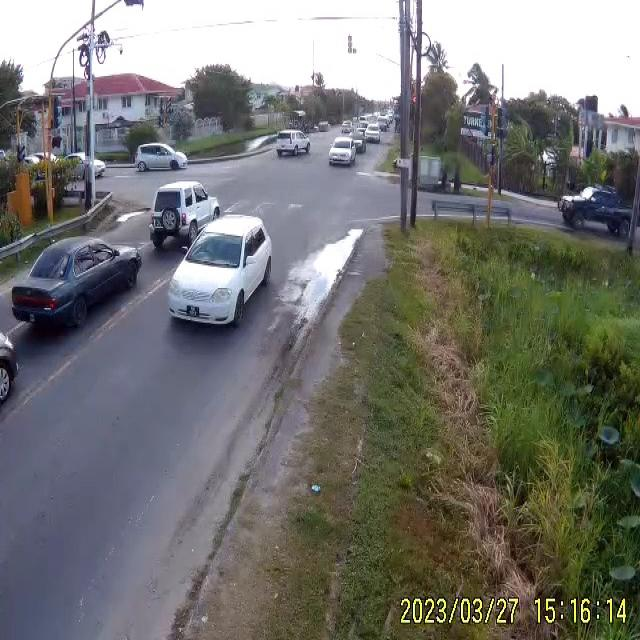car: (12, 237, 142, 334), (166, 216, 274, 328), (149, 181, 220, 249), (561, 188, 632, 235), (135, 144, 188, 173), (276, 132, 310, 158), (327, 140, 354, 169)
